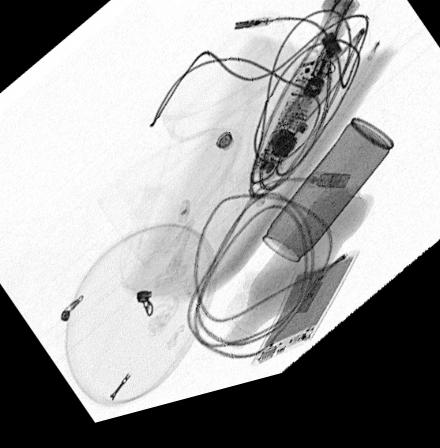Powerbank: (251, 267, 361, 380)
